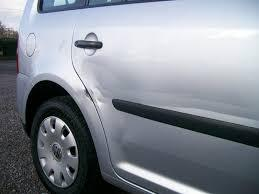doorouter-dent: (87, 20, 165, 158)
